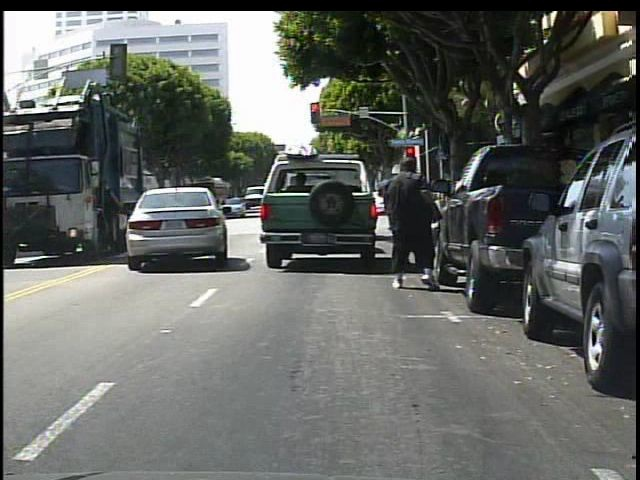person: (383, 157, 442, 293)
